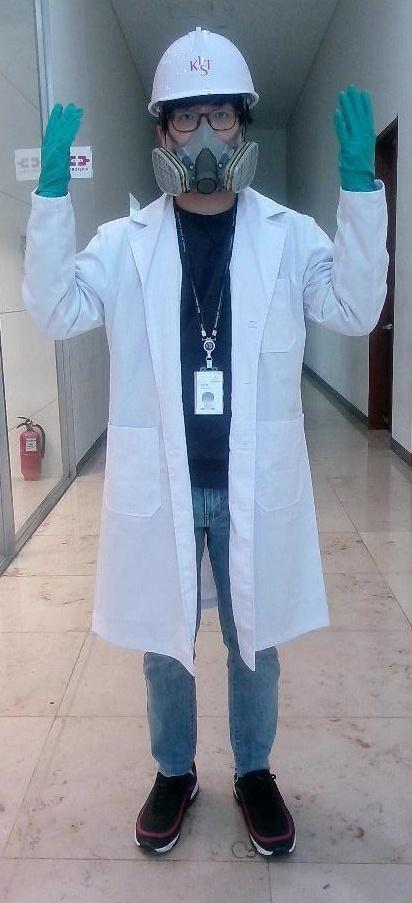lab_coat: (91, 214, 326, 657)
